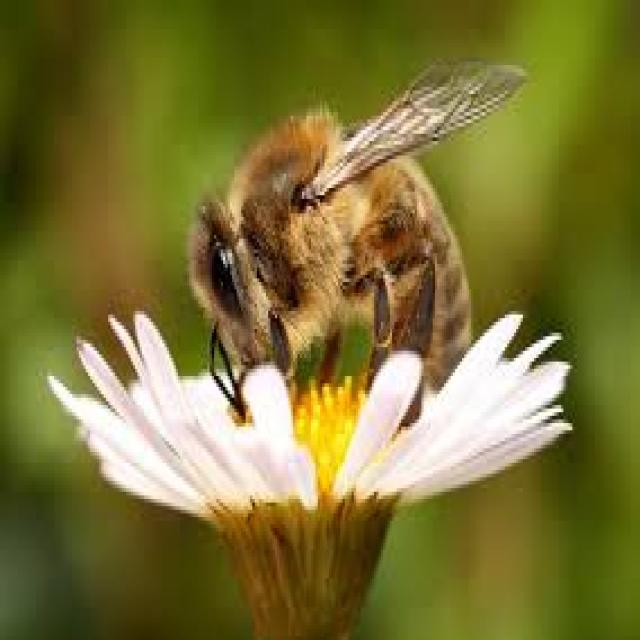Bees: (192, 57, 526, 425)
